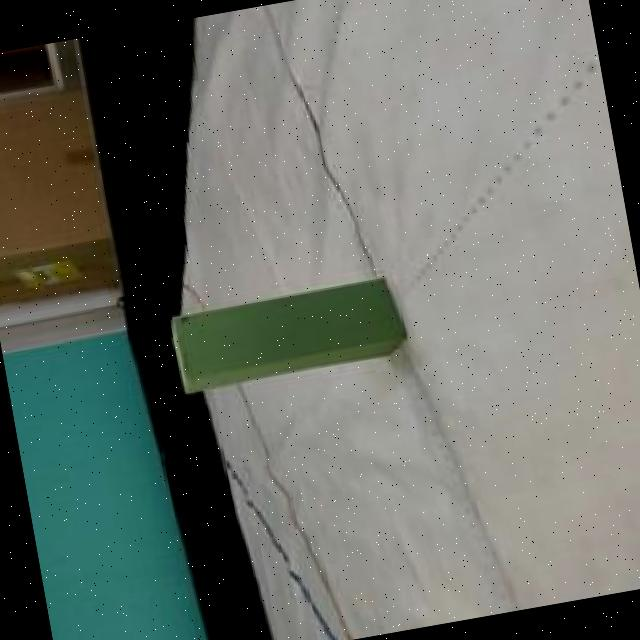greenbox: (166, 270, 408, 395)
